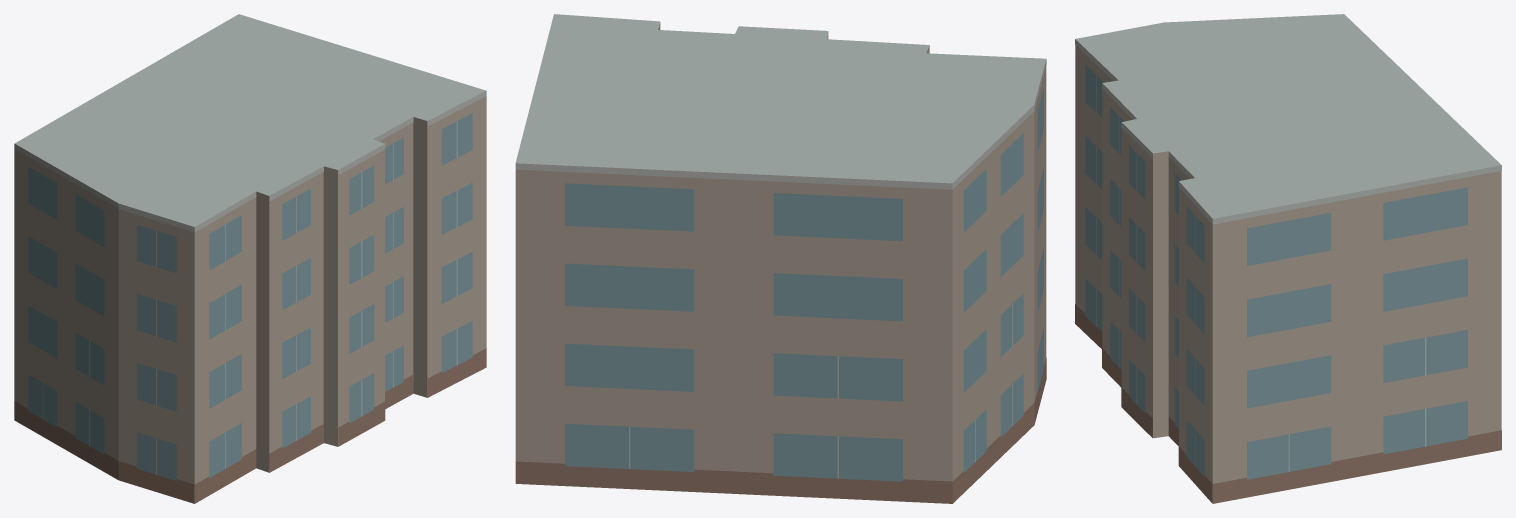
The model's file is survey-upis-33001431.glb.
The picture shows the model from 3 angles, left to right: view 1: azimuth 30°, elevation 25°; view 2: azimuth 150°, elevation 25°; view 3: azimuth 270°, elevation 25°; orthographic projection. The views are drawn at different scales.
Visible parts, largest first — view 1: survey-upis-33001431.tmp; view 2: survey-upis-33001431.tmp; view 3: survey-upis-33001431.tmp.
Part boxes in pixels (left/top/right/bottom): survey-upis-33001431.tmp: left=14, top=14, right=486, bottom=503; survey-upis-33001431.tmp: left=515, top=14, right=1046, bottom=503; survey-upis-33001431.tmp: left=1075, top=14, right=1501, bottom=503.
Bounding box in the file's own units: 19.14 × 12.4 × 16.84.
